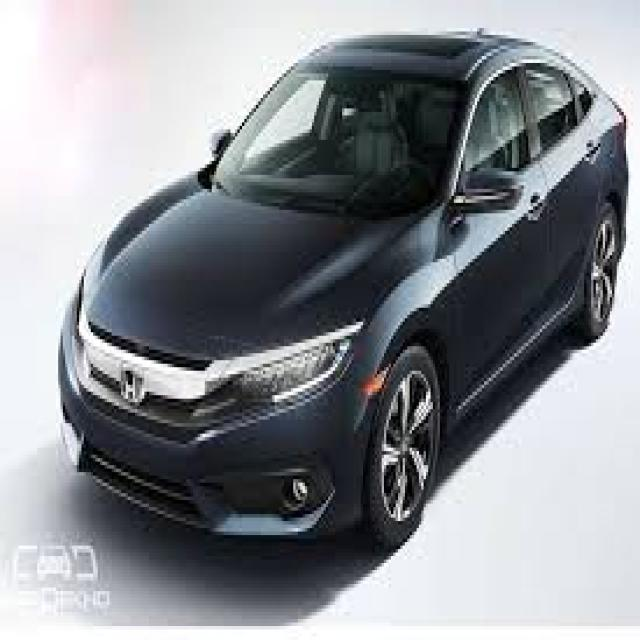car: (53, 29, 630, 556)
